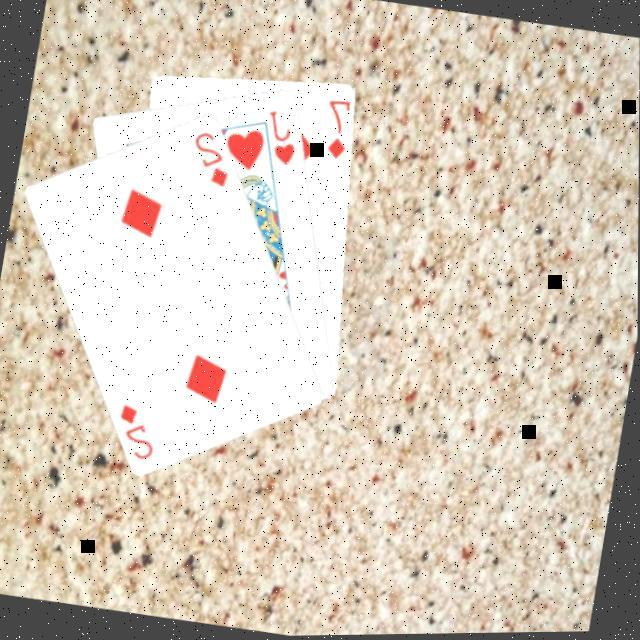2D: (184, 124, 238, 190), (110, 398, 164, 463)
7D: (316, 93, 356, 162)
JH: (257, 104, 304, 169)
